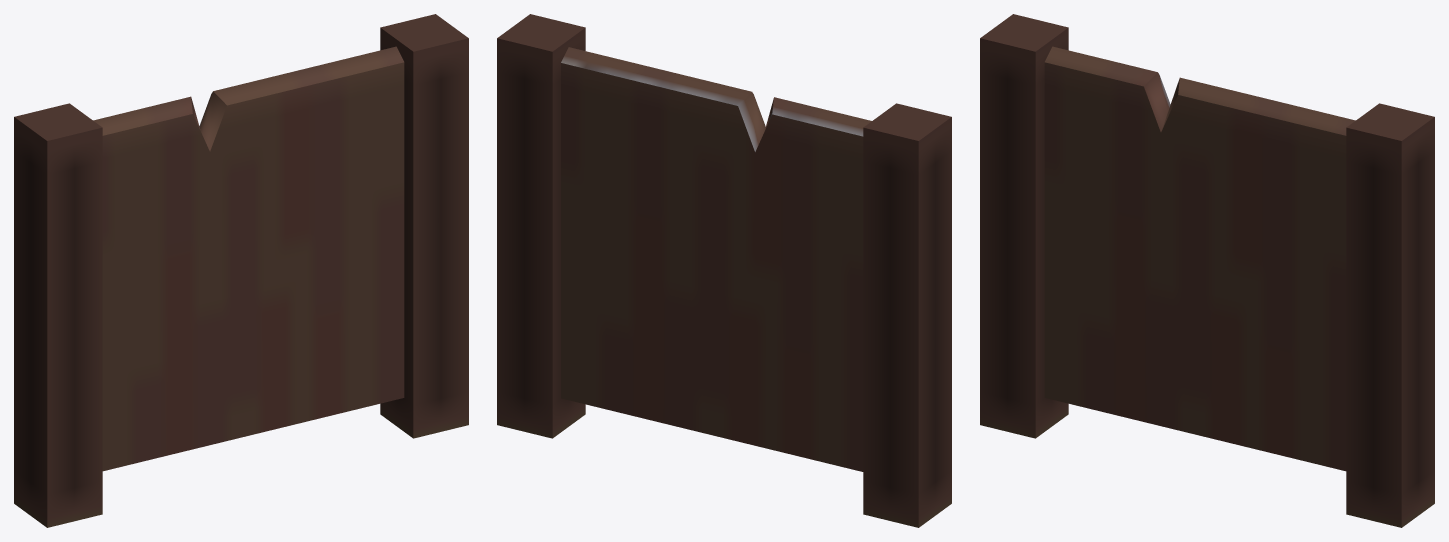
File: fence_straight_v2.fbx
3 renders of one model, left to right at view 1: azimuth 30°, elevation 25°; view 2: azimuth 150°, elevation 25°; view 3: azimuth 330°, elevation 25°, orthographic.
Visible parts, largest first — view 1: fence_straight_v2; view 2: fence_straight_v2; view 3: fence_straight_v2.
Part boxes in pixels (left/top/right/bottom): fence_straight_v2: left=14, top=14, right=468, bottom=527; fence_straight_v2: left=497, top=14, right=951, bottom=527; fence_straight_v2: left=980, top=14, right=1434, bottom=527.
Bounding box in the file's own units: 234 × 205 × 31.82.
